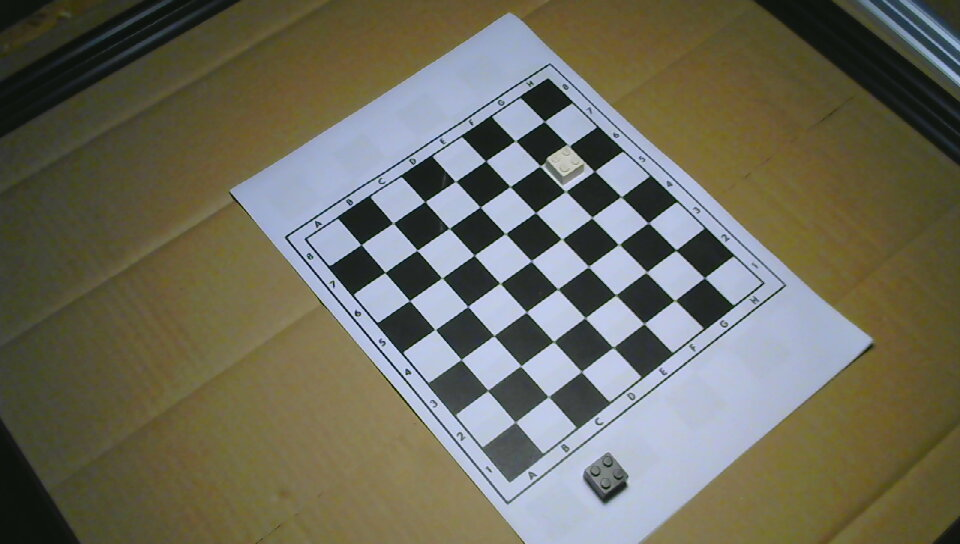bp: (584, 451, 628, 502)
wp: (544, 143, 584, 185)
